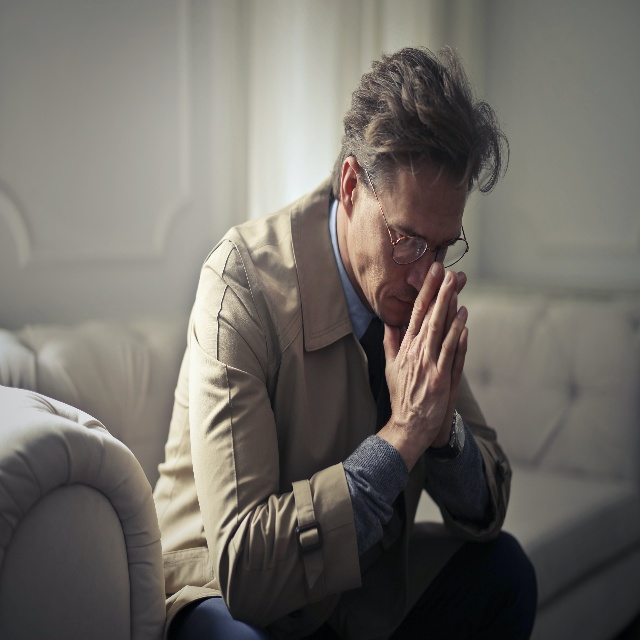Gafas: (365, 169, 469, 269)
Sin_guantes: (383, 264, 468, 460), (431, 271, 469, 450)
